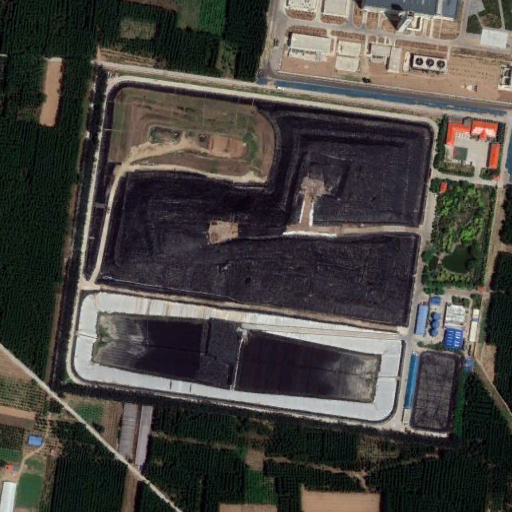lf: (89, 73, 433, 319)
